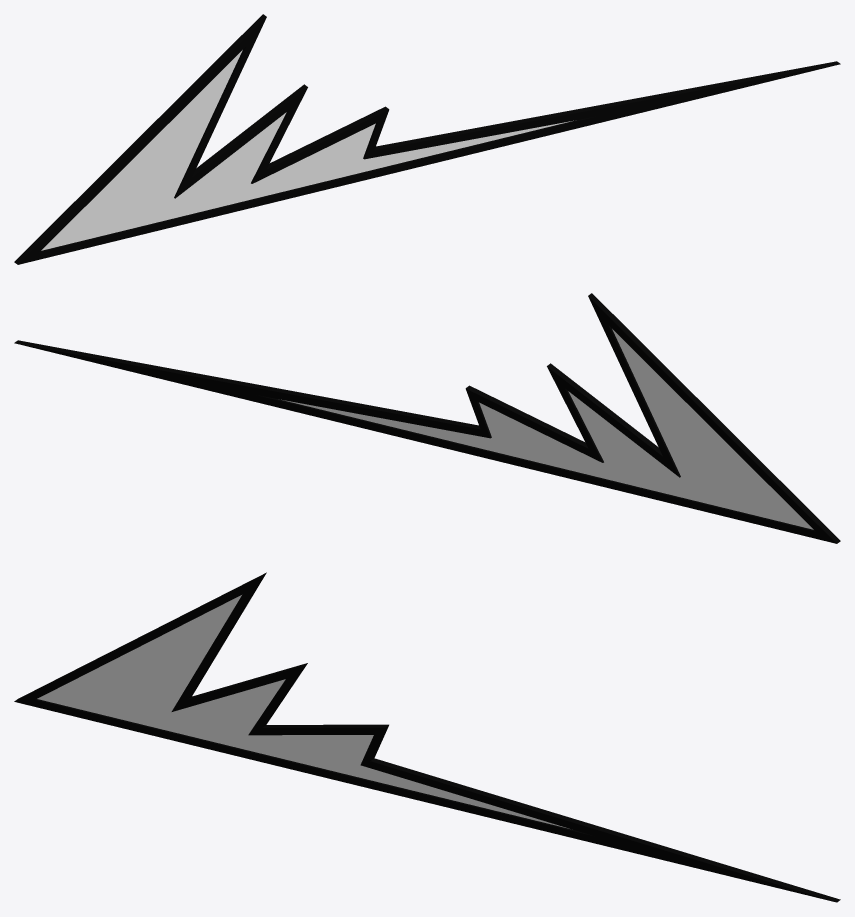
The model's file is Skid_001.FBX.
3 renders of one model, top to bottom at view 1: azimuth 30°, elevation 25°; view 2: azimuth 150°, elevation 25°; view 3: azimuth 330°, elevation 25°, orthographic.
Visible parts, largest first — view 1: Skid_001; view 2: Skid_001; view 3: Skid_001.
Boxes of the visible parts, x1,y1,x2,y2 form: Skid_001: (14, 14, 840, 264); Skid_001: (14, 293, 840, 543); Skid_001: (14, 572, 840, 902).
Bounding box in the file's own units: 241 × 2 × 52.38.
